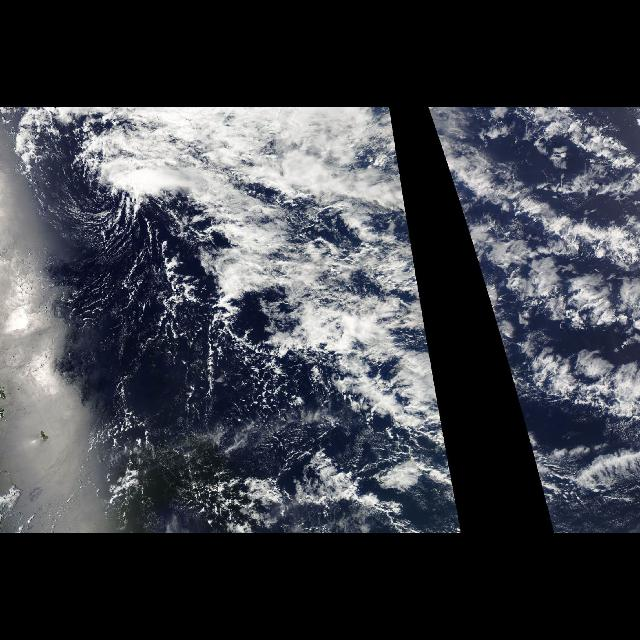Fish: (491, 156, 633, 426)
